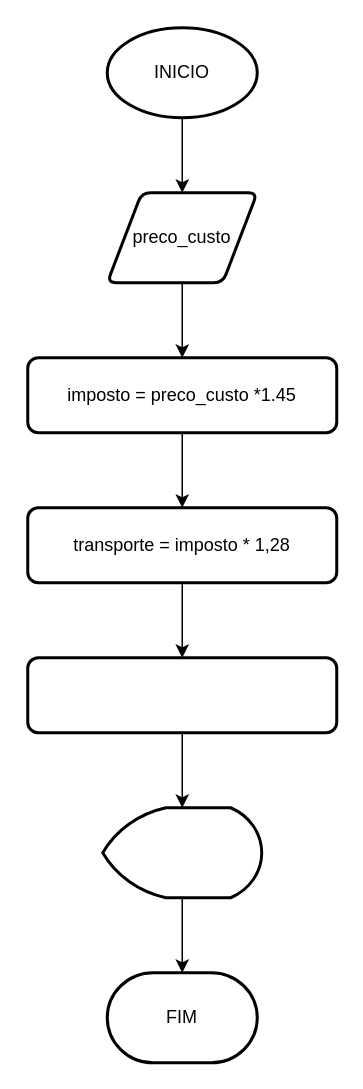
Some shapes in this 363 by 1089 pixel diagram are drawn without their labels. Here are the shapes that lost their labels. From the top down, the centre of each, then its label:
At (182,695): "custo_final = transporte".
At (181,852): "custo_consumidor".
